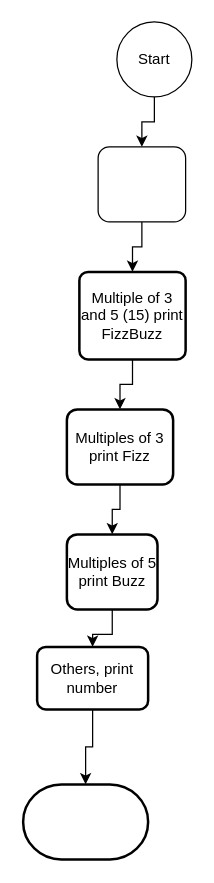
This 214x883 diagram has some shape labels left out. The shapes that lost their labels are listed below. From the top down, each one's centre as x and y in pixels, then its label:
At (x=141, y=184): "set range".
At (x=85, y=821): "End".
